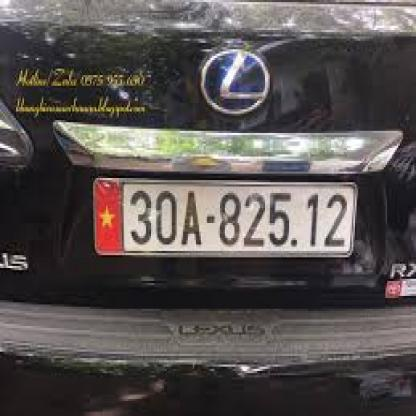biensoxe: (94, 178, 359, 259)
